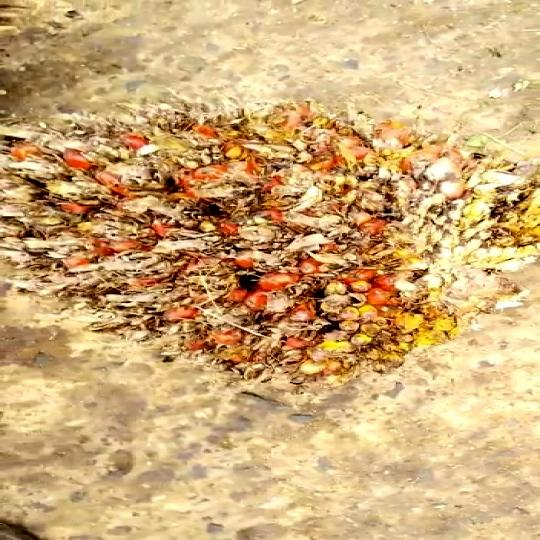terlalu masak: (0, 102, 540, 393)
